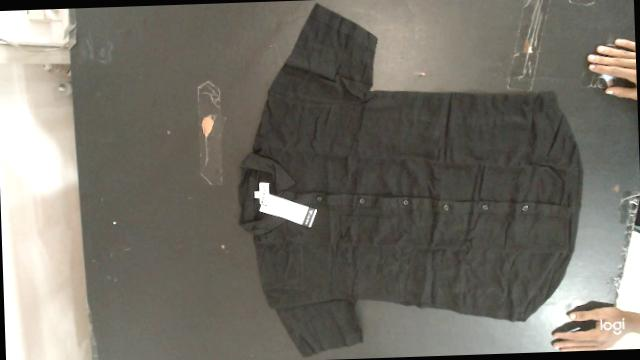new-garment: (239, 4, 582, 355)
